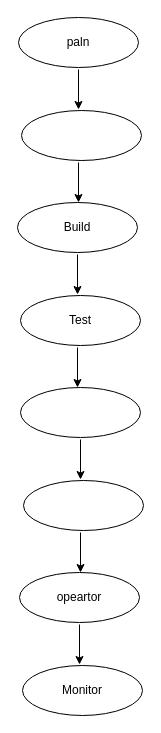
The diagram is 161 pixels wide and 733 high, and some of its shapes have lost their labels. The box of each missing label's shape, as (x1, y1, x2, y2) in pixels:
Deploy: (22, 480, 144, 530)
Develop: (20, 110, 142, 160)
Release: (20, 386, 140, 438)
